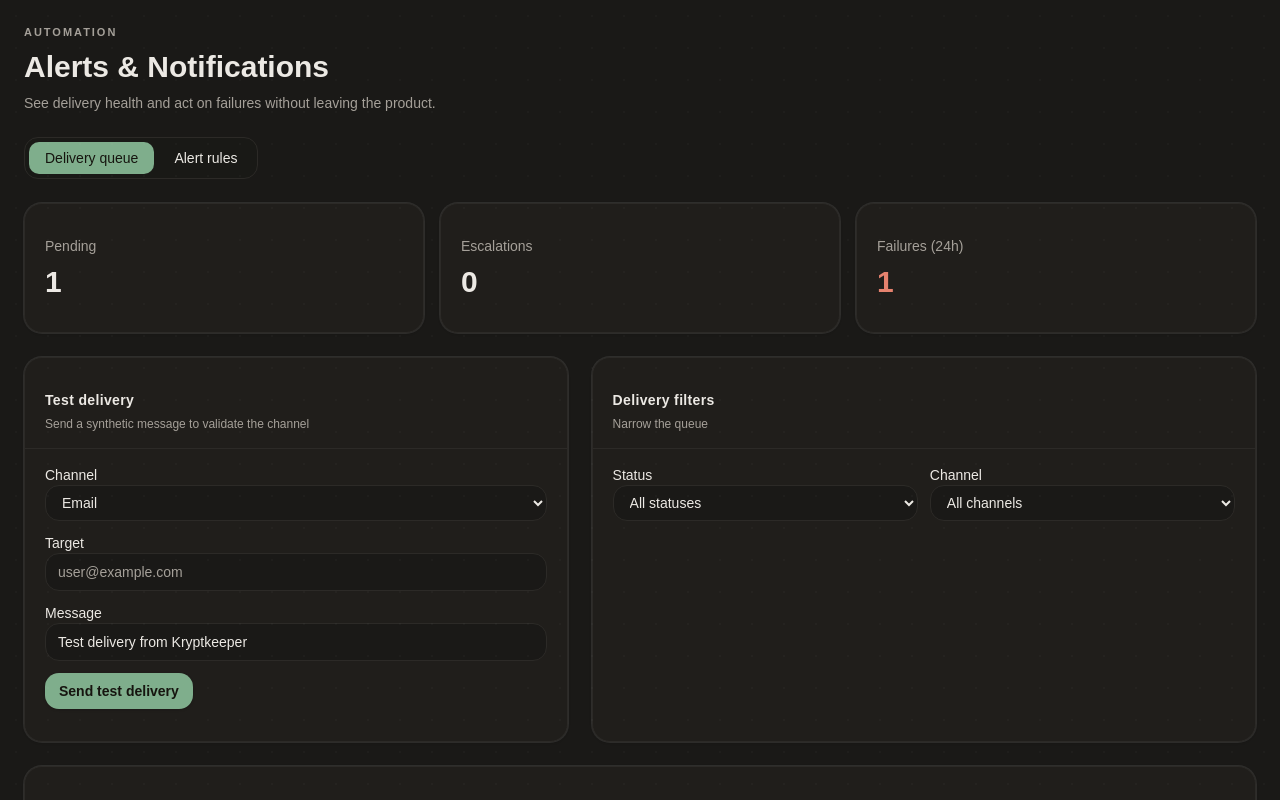
Alerts rule form (W30-18) › rules table shows 25% / 30d / At expiry and owner team routing
Click the button "Alert rules" at (206, 158), box [158,142,253,174]
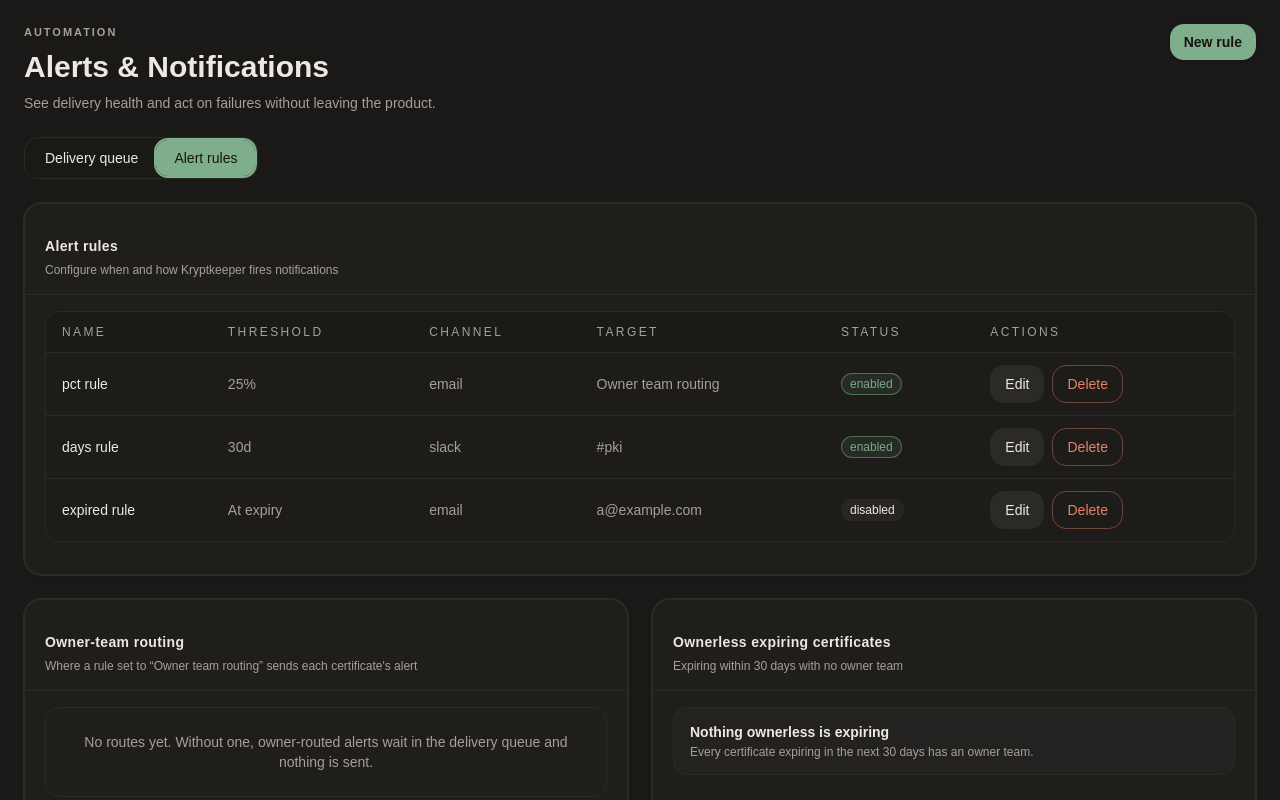
expect the text "25%" is shown: met, box [212,352,413,415]
expect the text "30d" is shown: met, box [212,415,413,478]
expect the text "At expiry" is shown: met, box [212,478,413,540]
